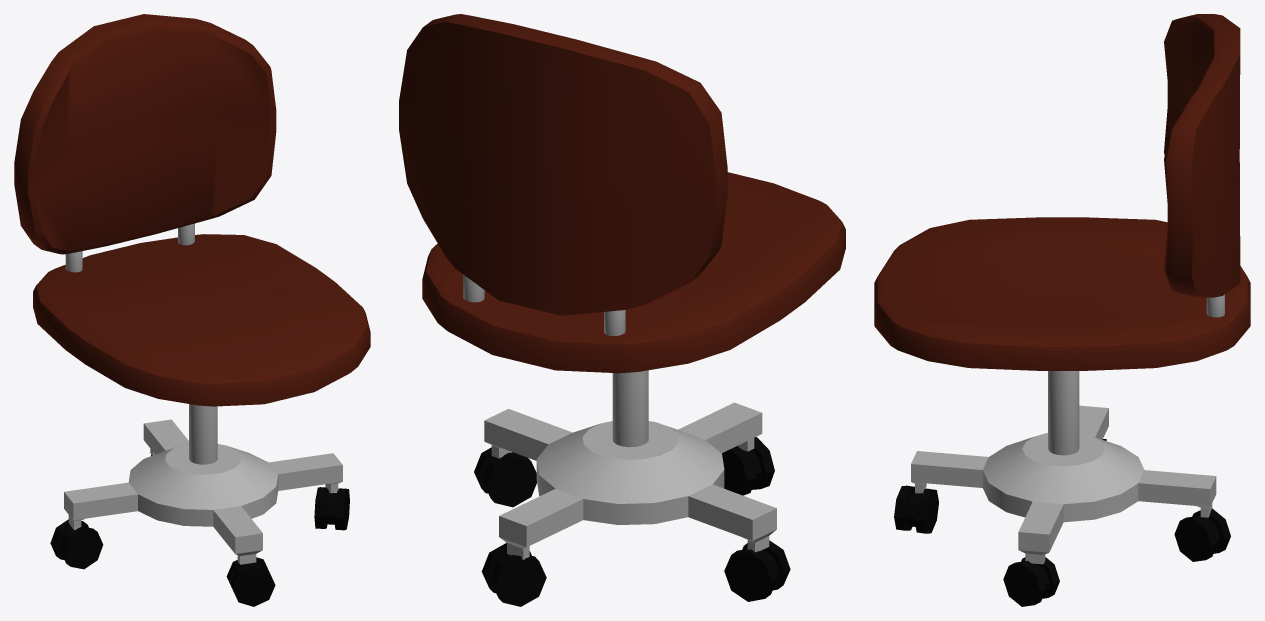
The model's file is chair.glb.
3 views of the same model, side by side, from view 1: azimuth 30°, elevation 25°; view 2: azimuth 150°, elevation 25°; view 3: azimuth 270°, elevation 25° (orthographic). The views are drawn at different scales.
Parts seen in each view (by area): view 1: back, Cube, desk-legs.003, Cylinder, Cylinder.003, desk-legs.001, Cylinder.002, desk-legs.002; view 2: back, Cube, desk-legs.003, Cylinder, desk-legs.001, Cylinder.001, Cylinder.002, Cylinder.003, desk-legs.002; view 3: Cube, back, desk-legs.003, desk-legs.001, Cylinder.001, Cylinder.002, Cylinder.003.
Boxes of the visible parts, left/top/right/bottom form: back: left=14, top=14, right=276, bottom=254; Cube: left=33, top=234, right=370, bottom=406; desk-legs.003: left=64, top=419, right=342, bottom=564; Cylinder: left=50, top=519, right=103, bottom=569; Cylinder.003: left=226, top=557, right=275, bottom=606; desk-legs.001: left=189, top=404, right=217, bottom=464; Cylinder.002: left=314, top=487, right=349, bottom=530; desk-legs.002: left=65, top=223, right=194, bottom=272; back: left=399, top=14, right=727, bottom=315; Cube: left=422, top=172, right=845, bottom=373; desk-legs.003: left=484, top=402, right=776, bottom=559; Cylinder: left=724, top=540, right=790, bottom=601; desk-legs.001: left=612, top=370, right=648, bottom=447; Cylinder.001: left=481, top=543, right=546, bottom=606; Cylinder.002: left=474, top=447, right=536, bottom=507; Cylinder.003: left=722, top=437, right=774, bottom=495; desk-legs.002: left=463, top=274, right=625, bottom=336; Cube: left=874, top=217, right=1250, bottom=370; back: left=1164, top=14, right=1240, bottom=297; desk-legs.003: left=911, top=405, right=1216, bottom=564; desk-legs.001: left=1048, top=371, right=1079, bottom=455; Cylinder.001: left=1174, top=508, right=1230, bottom=561; Cylinder.002: left=1003, top=557, right=1059, bottom=606; Cylinder.003: left=894, top=485, right=938, bottom=533.
Size of the model in its own units: 10.15 by 16.81 by 11.48.
